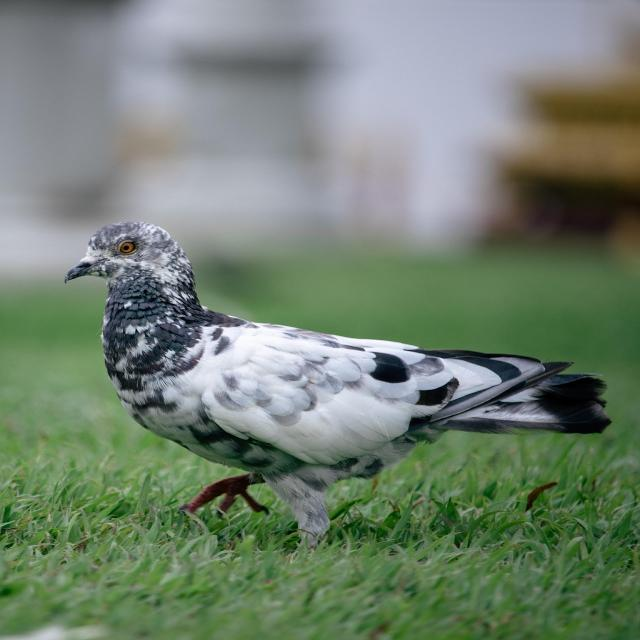pegion: (57, 193, 588, 562)
